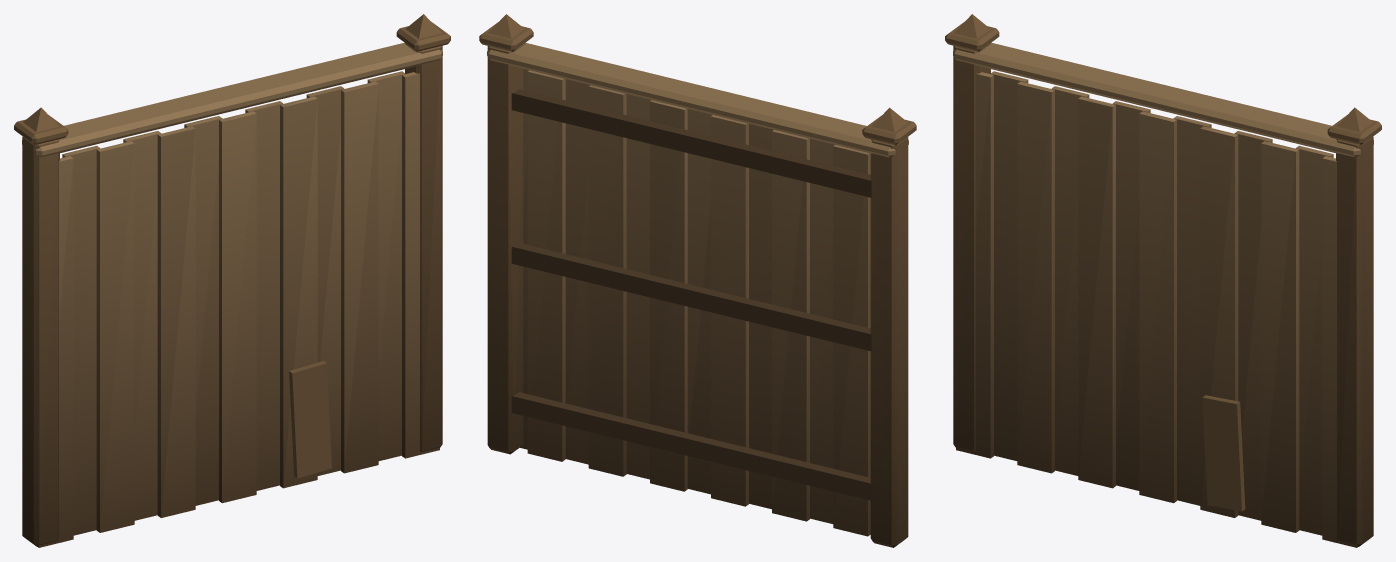
The model's file is privacy-fence.glb.
3 views of the same model, side by side, from view 1: azimuth 30°, elevation 25°; view 2: azimuth 150°, elevation 25°; view 3: azimuth 330°, elevation 25° (orthographic).
Visible parts, largest first — view 1: privacy_fence; view 2: privacy_fence; view 3: privacy_fence.
Boxes of the visible parts, x1,y1,x2,y2 form: privacy_fence: (14,14,450,547); privacy_fence: (479,14,916,547); privacy_fence: (945,14,1381,547).
Size of the model in its own units: 2.06 by 2.03 by 0.1801.
